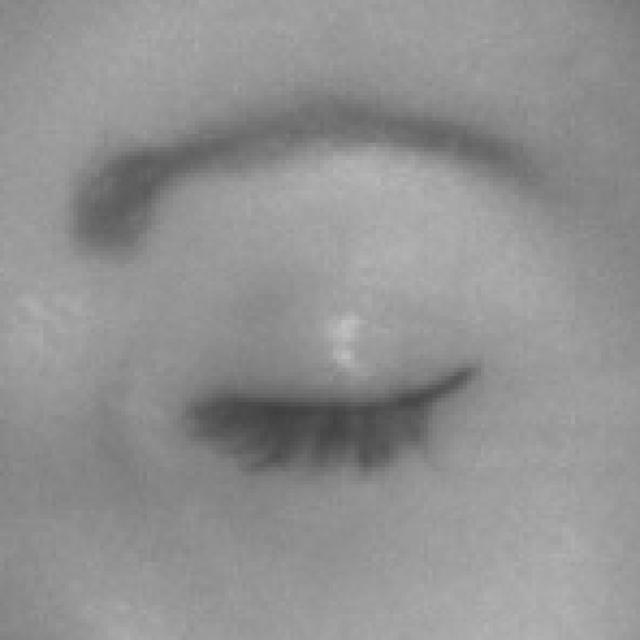Eyeclosed: (177, 262, 489, 562)
